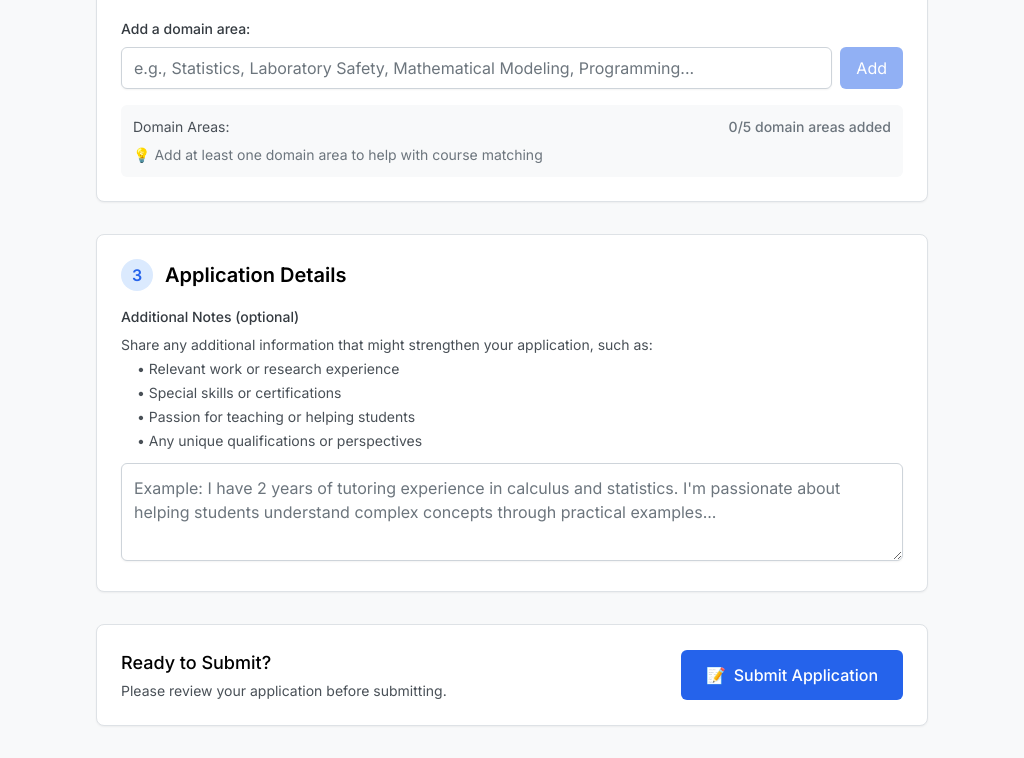
TAApplicationForm › Form Submission › submits the form successfully with empty optional fields
The width and height of the screenshot is (1024, 758).
(page scrolled)
Click the button "📝 Submit Application": (792, 675) [681,650,903,700]
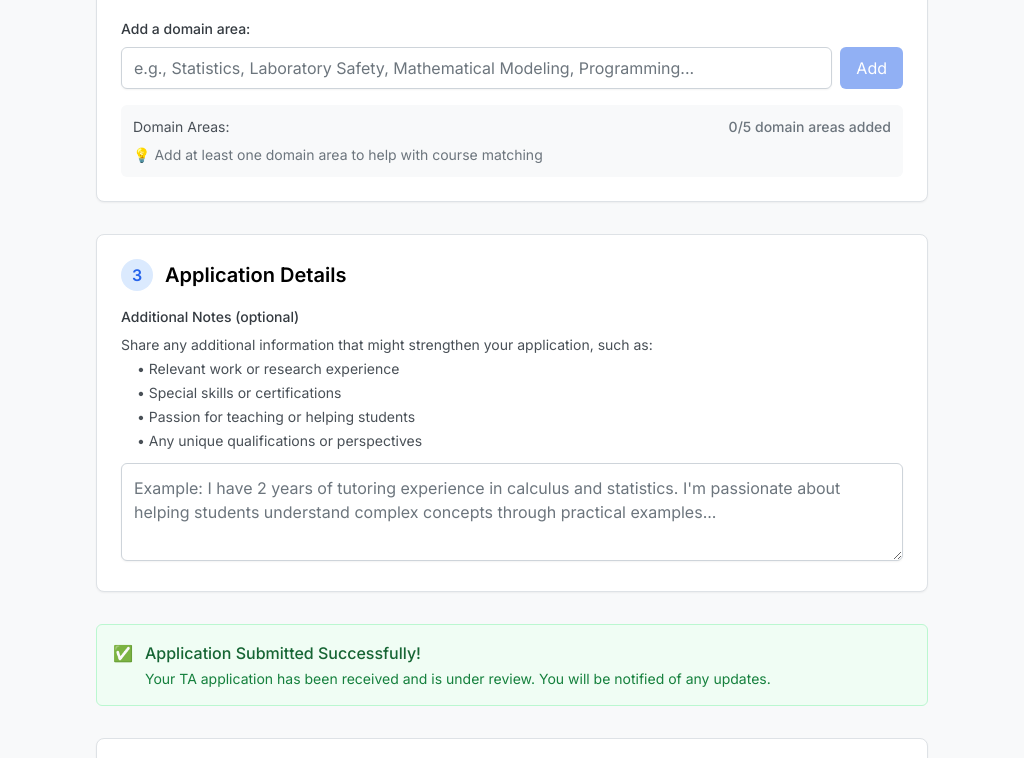
Expected: the heading "Application Submitted Successfully!" is shown, [145,643,421,663]
